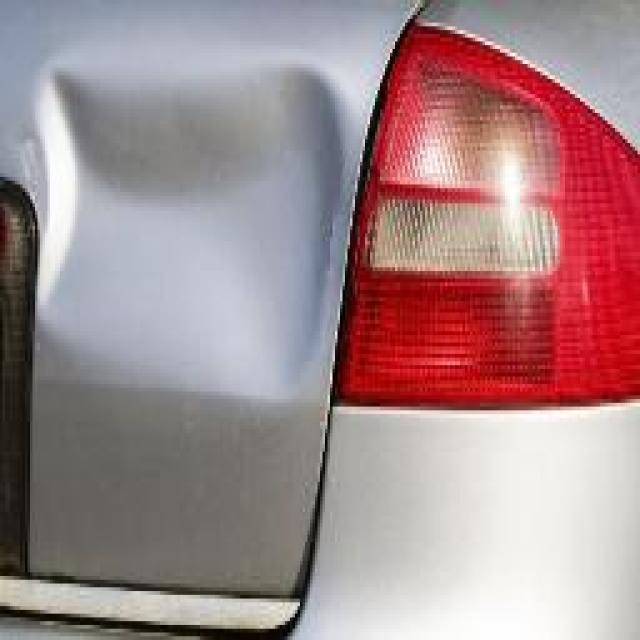Dickey: (28, 53, 335, 392)
